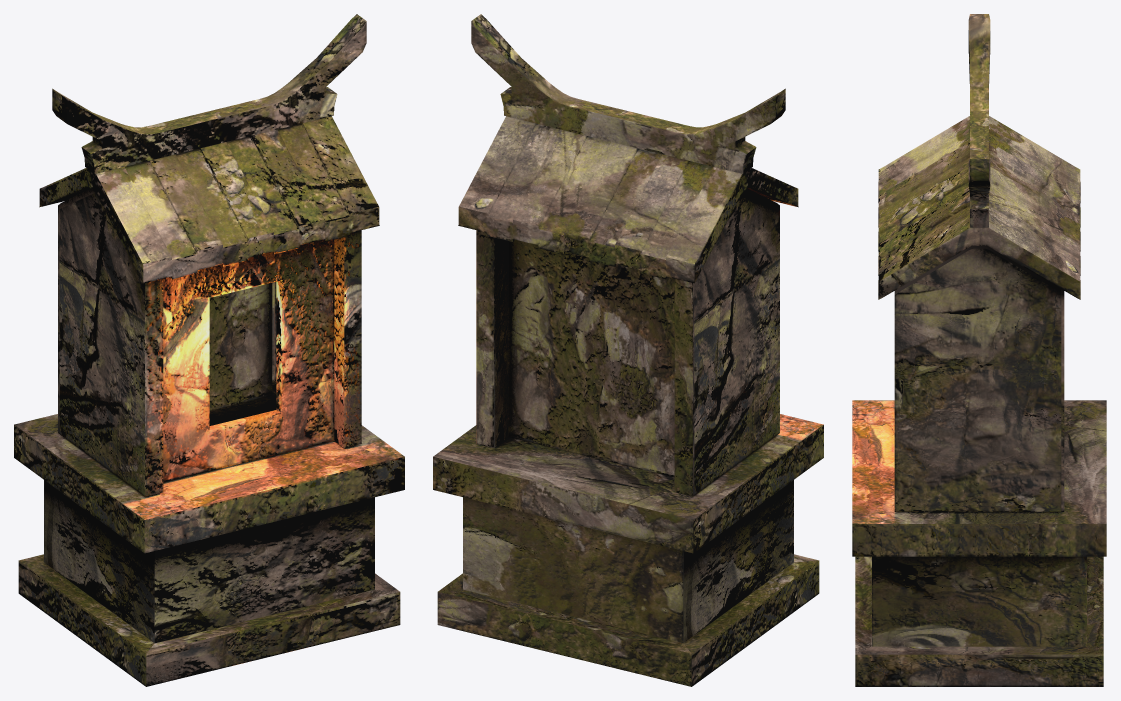
The model's file is asset.glb.
The picture shows the model from 3 angles, left to right: view 1: azimuth 30°, elevation 25°; view 2: azimuth 150°, elevation 25°; view 3: azimuth 270°, elevation 25°; orthographic projection. The views are drawn at different scales.
Parts seen in each view (by area): view 1: Plane; view 2: Plane; view 3: Plane.
Part boxes in pixels (<box>): Plane: <box>14,14,404,686</box>; Plane: <box>433,14,823,686</box>; Plane: <box>852,14,1106,686</box>.
Size of the model in its own units: 1.43 by 2.49 by 1.06.
Materials: 1 (1 with a texture image).
